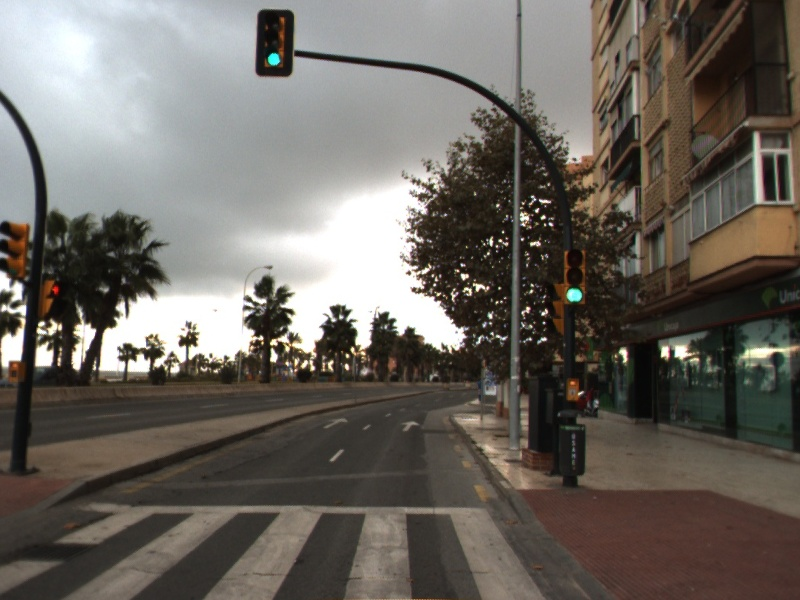STRAIGHT: (321, 416, 349, 430), (399, 419, 422, 433)
